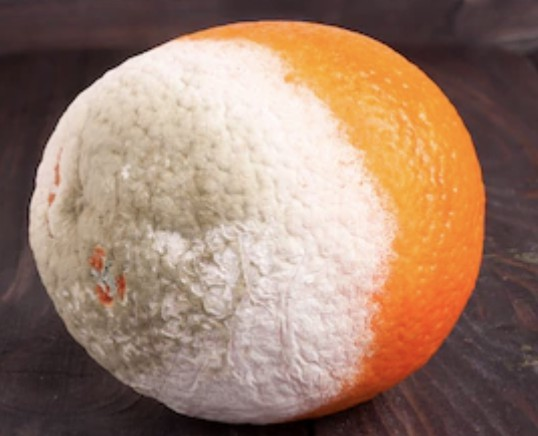rotten_orange: (29, 21, 487, 420)
